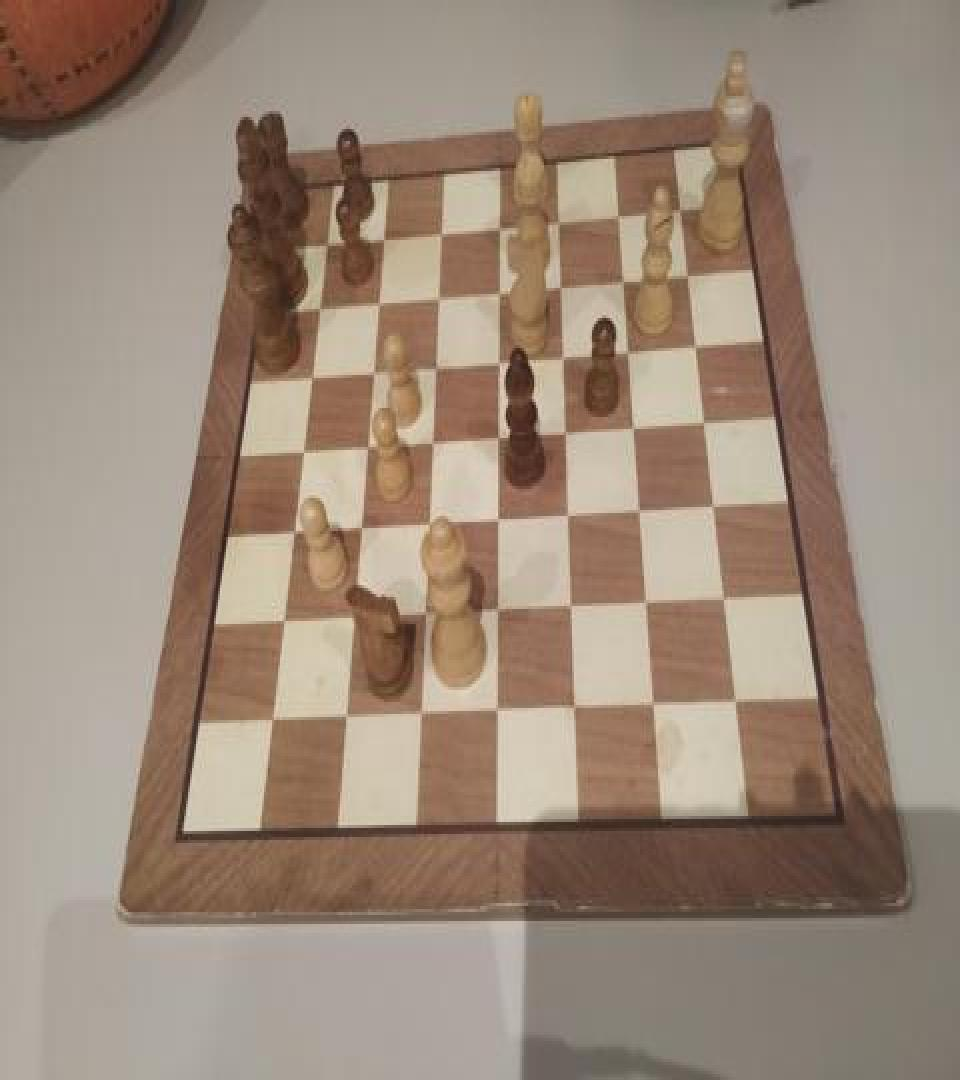xcorner: (631, 499, 651, 530), (334, 706, 354, 736), (487, 700, 507, 730), (646, 694, 666, 724), (728, 692, 748, 722), (414, 603, 434, 633), (487, 600, 507, 630), (638, 592, 658, 622), (715, 588, 735, 618), (280, 520, 300, 550), (348, 516, 368, 546), (417, 513, 437, 543), (487, 508, 507, 538), (558, 504, 578, 534), (704, 495, 724, 525), (289, 440, 309, 470), (354, 434, 374, 464), (420, 429, 440, 459), (487, 424, 507, 454), (555, 420, 575, 450), (624, 416, 644, 446), (694, 410, 714, 440), (297, 363, 317, 393), (359, 358, 379, 388), (422, 354, 442, 384), (487, 348, 507, 378), (552, 344, 572, 374), (618, 338, 638, 368), (685, 332, 705, 362), (304, 294, 324, 324), (364, 290, 384, 320), (425, 284, 445, 314), (486, 278, 506, 308), (549, 273, 569, 303), (612, 267, 632, 297), (676, 261, 696, 291), (311, 231, 331, 261), (369, 225, 389, 255), (427, 219, 447, 249), (486, 213, 506, 243), (546, 207, 566, 237), (607, 202, 627, 232), (669, 196, 689, 226), (260, 710, 280, 739), (410, 704, 430, 733), (566, 698, 586, 727), (270, 611, 290, 640), (341, 608, 361, 637), (562, 596, 582, 625)
